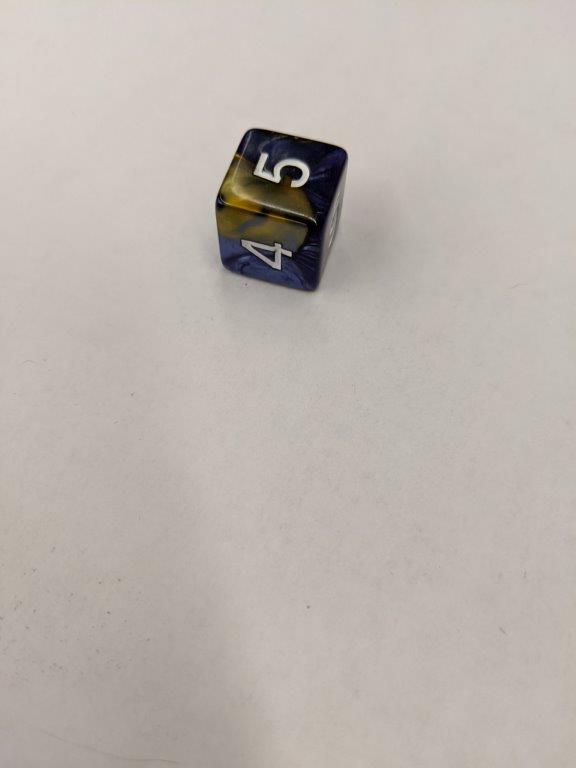d6-5: (214, 127, 351, 291)
